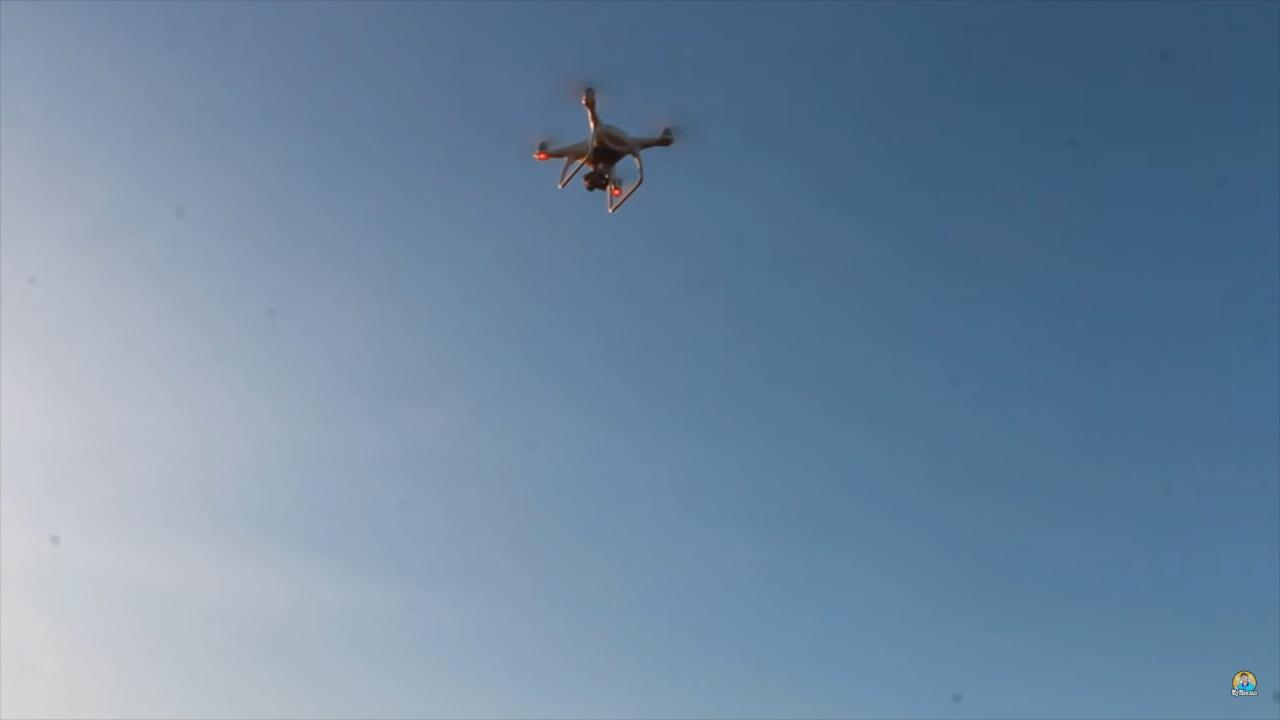Drone: (515, 71, 699, 226)
